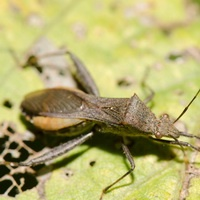insect: (21, 54, 199, 152)
